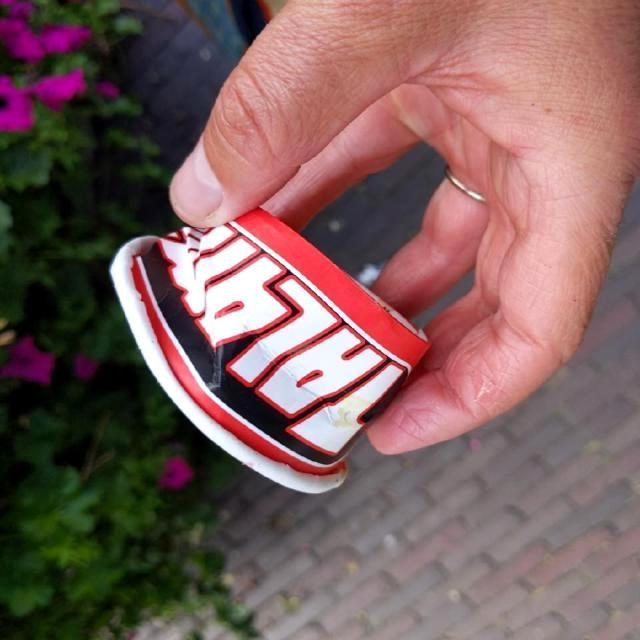Paper: (107, 198, 433, 496)
